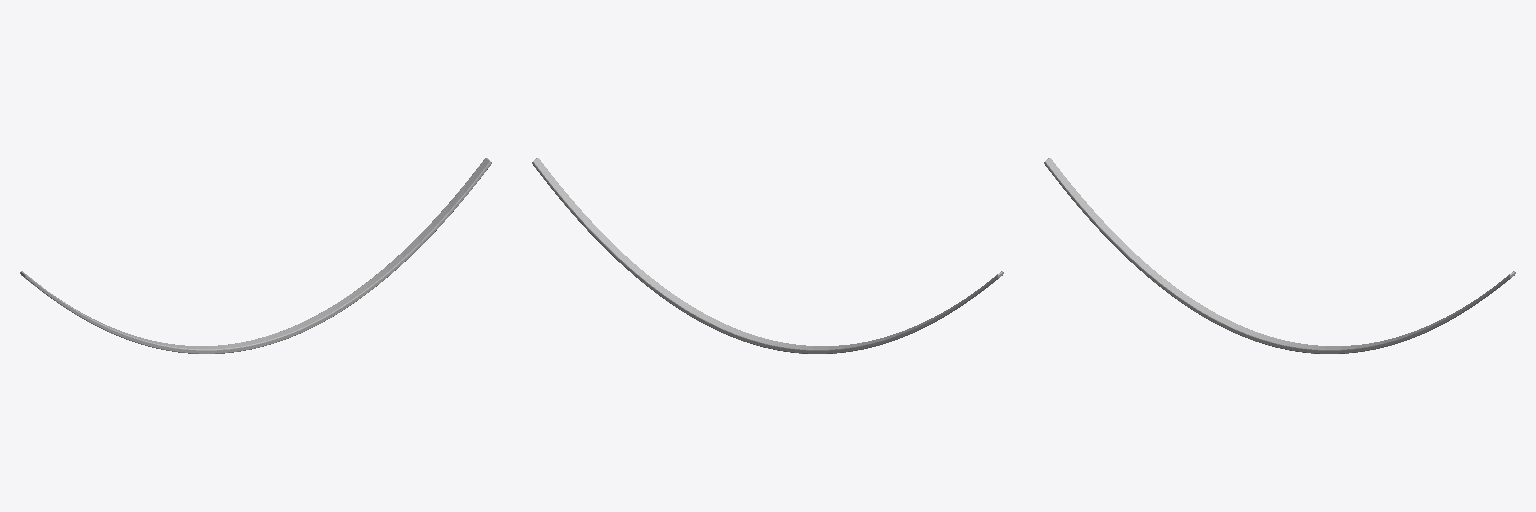
The robot description file, URDF, robot "curved_bar_only.SLDPRT":
<robot
  name="curved_bar_only.SLDPRT">
  <link
    name="curved_bar_only">
    <inertial>
      <origin
        xyz="-3.3513E-05 3.6256E-18 -0.084407"
        rpy="0 0 0" />
      <mass
        value="0.024476" />
      <inertia
        ixx="3.70970022399732E-05"
        ixy="3.92486244608682E-10"
        ixz="1.20779958945145E-07"
        iyy="0.000544113900541305"
        iyz="-5.360386917021E-21"
        izz="0.000507410340567985" />
    </inertial>
    <visual>
      <origin
        xyz="0 0 0"
        rpy="0 0 0" />
      <geometry>
        <mesh
          filename="package://curved_bar_only/meshes/curved_bar_only.STL" />
      </geometry>
      <material
        name="">
        <color
          rgba="0.75294 0.75294 0.75294 1" />
      </material>
    </visual>
    <collision>
      <origin
        xyz="0 0 0"
        rpy="0 0 0" />
      <geometry>
        <mesh
          filename="package://curved_bar_only/meshes/curved_bar_only.STL" />
      </geometry>
    </collision>
  </link>
</robot>

--- What the picture shows (computed from the rendered views, not written in the file) ---
Views: 3 orthographic renders of the robot side by side, from view 1: azimuth 30°, elevation 25°; view 2: azimuth 150°, elevation 25°; view 3: azimuth 330°, elevation 25°.
Model curved_bar_only.SLDPRT with 1 links and 0 joints (none), rooted at curved_bar_only, posed all joints at 0.
Visible links, largest first — view 1: curved_bar_only; view 2: curved_bar_only; view 3: curved_bar_only.
Link boxes in pixels (left/top/right/bottom): curved_bar_only: left=20, top=158, right=491, bottom=353; curved_bar_only: left=532, top=158, right=1003, bottom=353; curved_bar_only: left=1044, top=158, right=1515, bottom=353.
Size in the robot's own frame: 0.5 by 0.01 by 0.1335 metres.
1 mesh visuals loaded from 1 distinct referenced files (1 binary STL).
